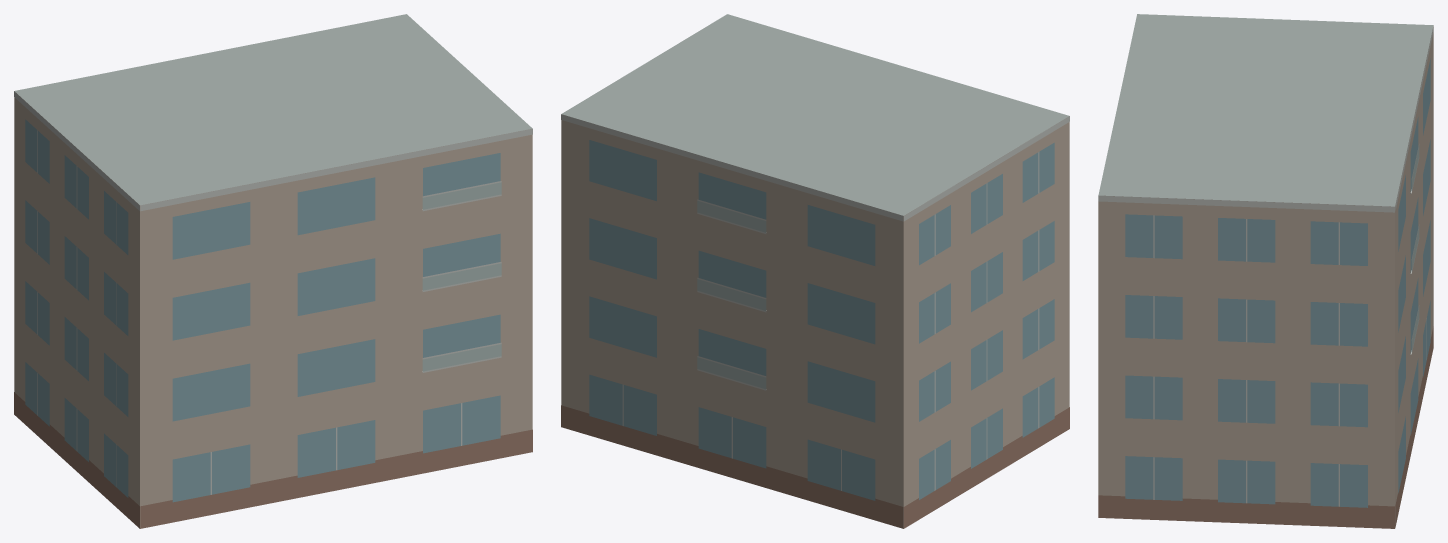
File: survey-upis-32930017.glb
3 views of the same model, side by side, from view 1: azimuth 30°, elevation 25°; view 2: azimuth 150°, elevation 25°; view 3: azimuth 270°, elevation 25° (orthographic). The views are drawn at different scales.
Parts seen in each view (by area): view 1: survey-upis-32930017.tmp; view 2: survey-upis-32930017.tmp; view 3: survey-upis-32930017.tmp.
Part boxes in pixels (x1=…): survey-upis-32930017.tmp: x1=14, y1=14, x2=532, y2=528; survey-upis-32930017.tmp: x1=561, y1=14, x2=1069, y2=528; survey-upis-32930017.tmp: x1=1098, y1=14, x2=1433, y2=528.
Bounding box in the file's own units: 16.93 × 13.2 × 12.45.
